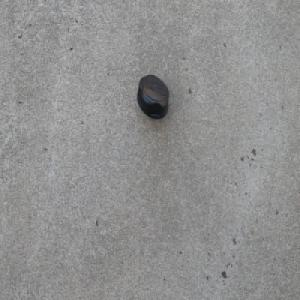FuelCap: (136, 73, 170, 121)
